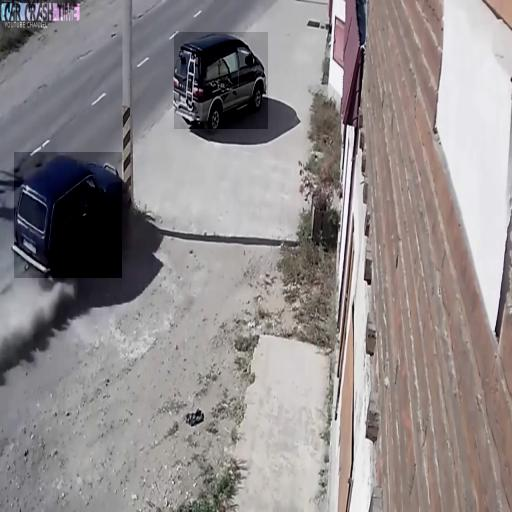小汽车: (14, 152, 122, 278), (174, 32, 268, 129)
